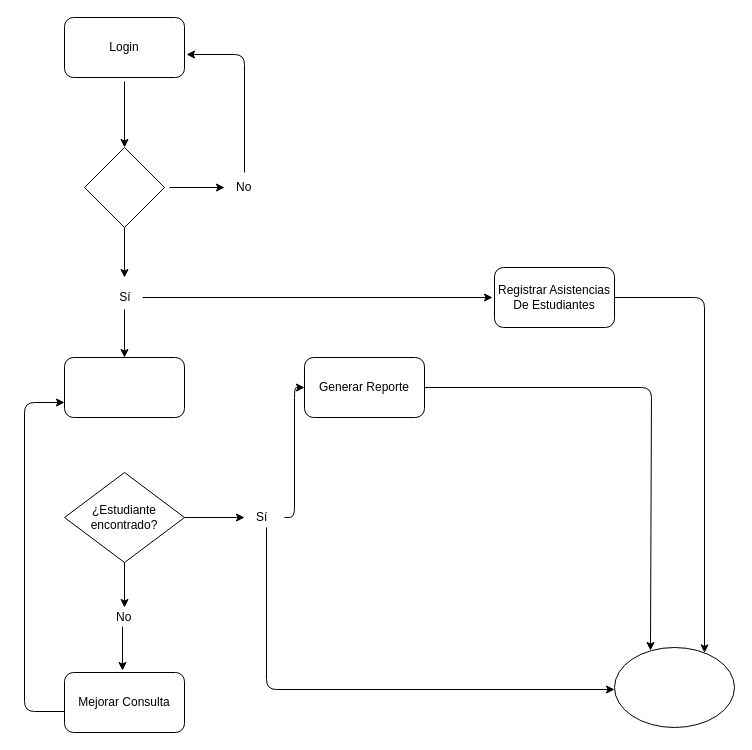
This 752x750 diagram has some shape labels left out. Each missing label, with the centre of its shape:
Cerrar Sesión: (674,687)
Consulta De Estudiantes: (124,387)
¿Login Exitoso?: (124,187)
